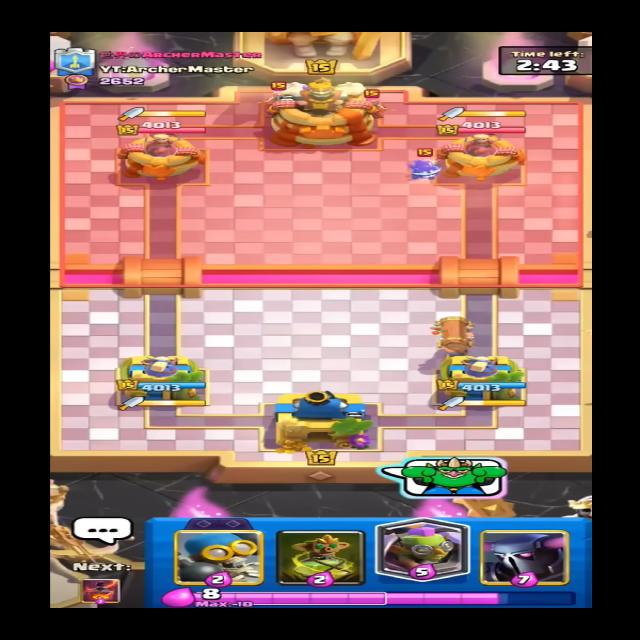archer: (252, 83, 296, 108), (362, 91, 388, 112)
electro-spirit: (408, 159, 449, 179)
